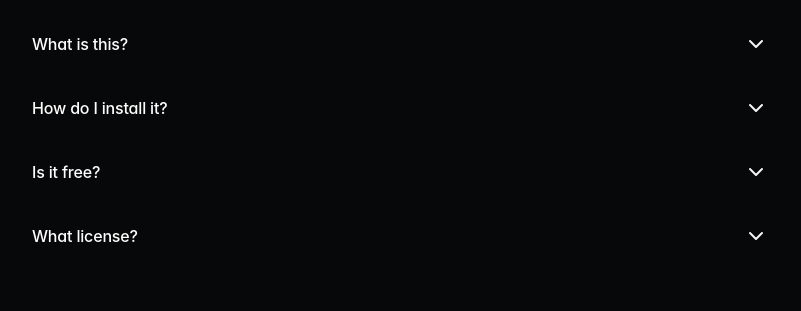
Scenario: FAQSection › rendering › renders answers when accordion item is clicked
Click the button "What is this?" at (80, 44), box [16,12,784,76]
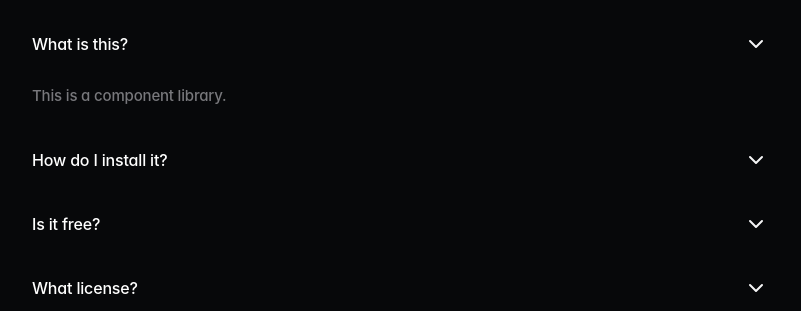
Expected: the text "This is a component library." is shown, [32,86,226,105]
